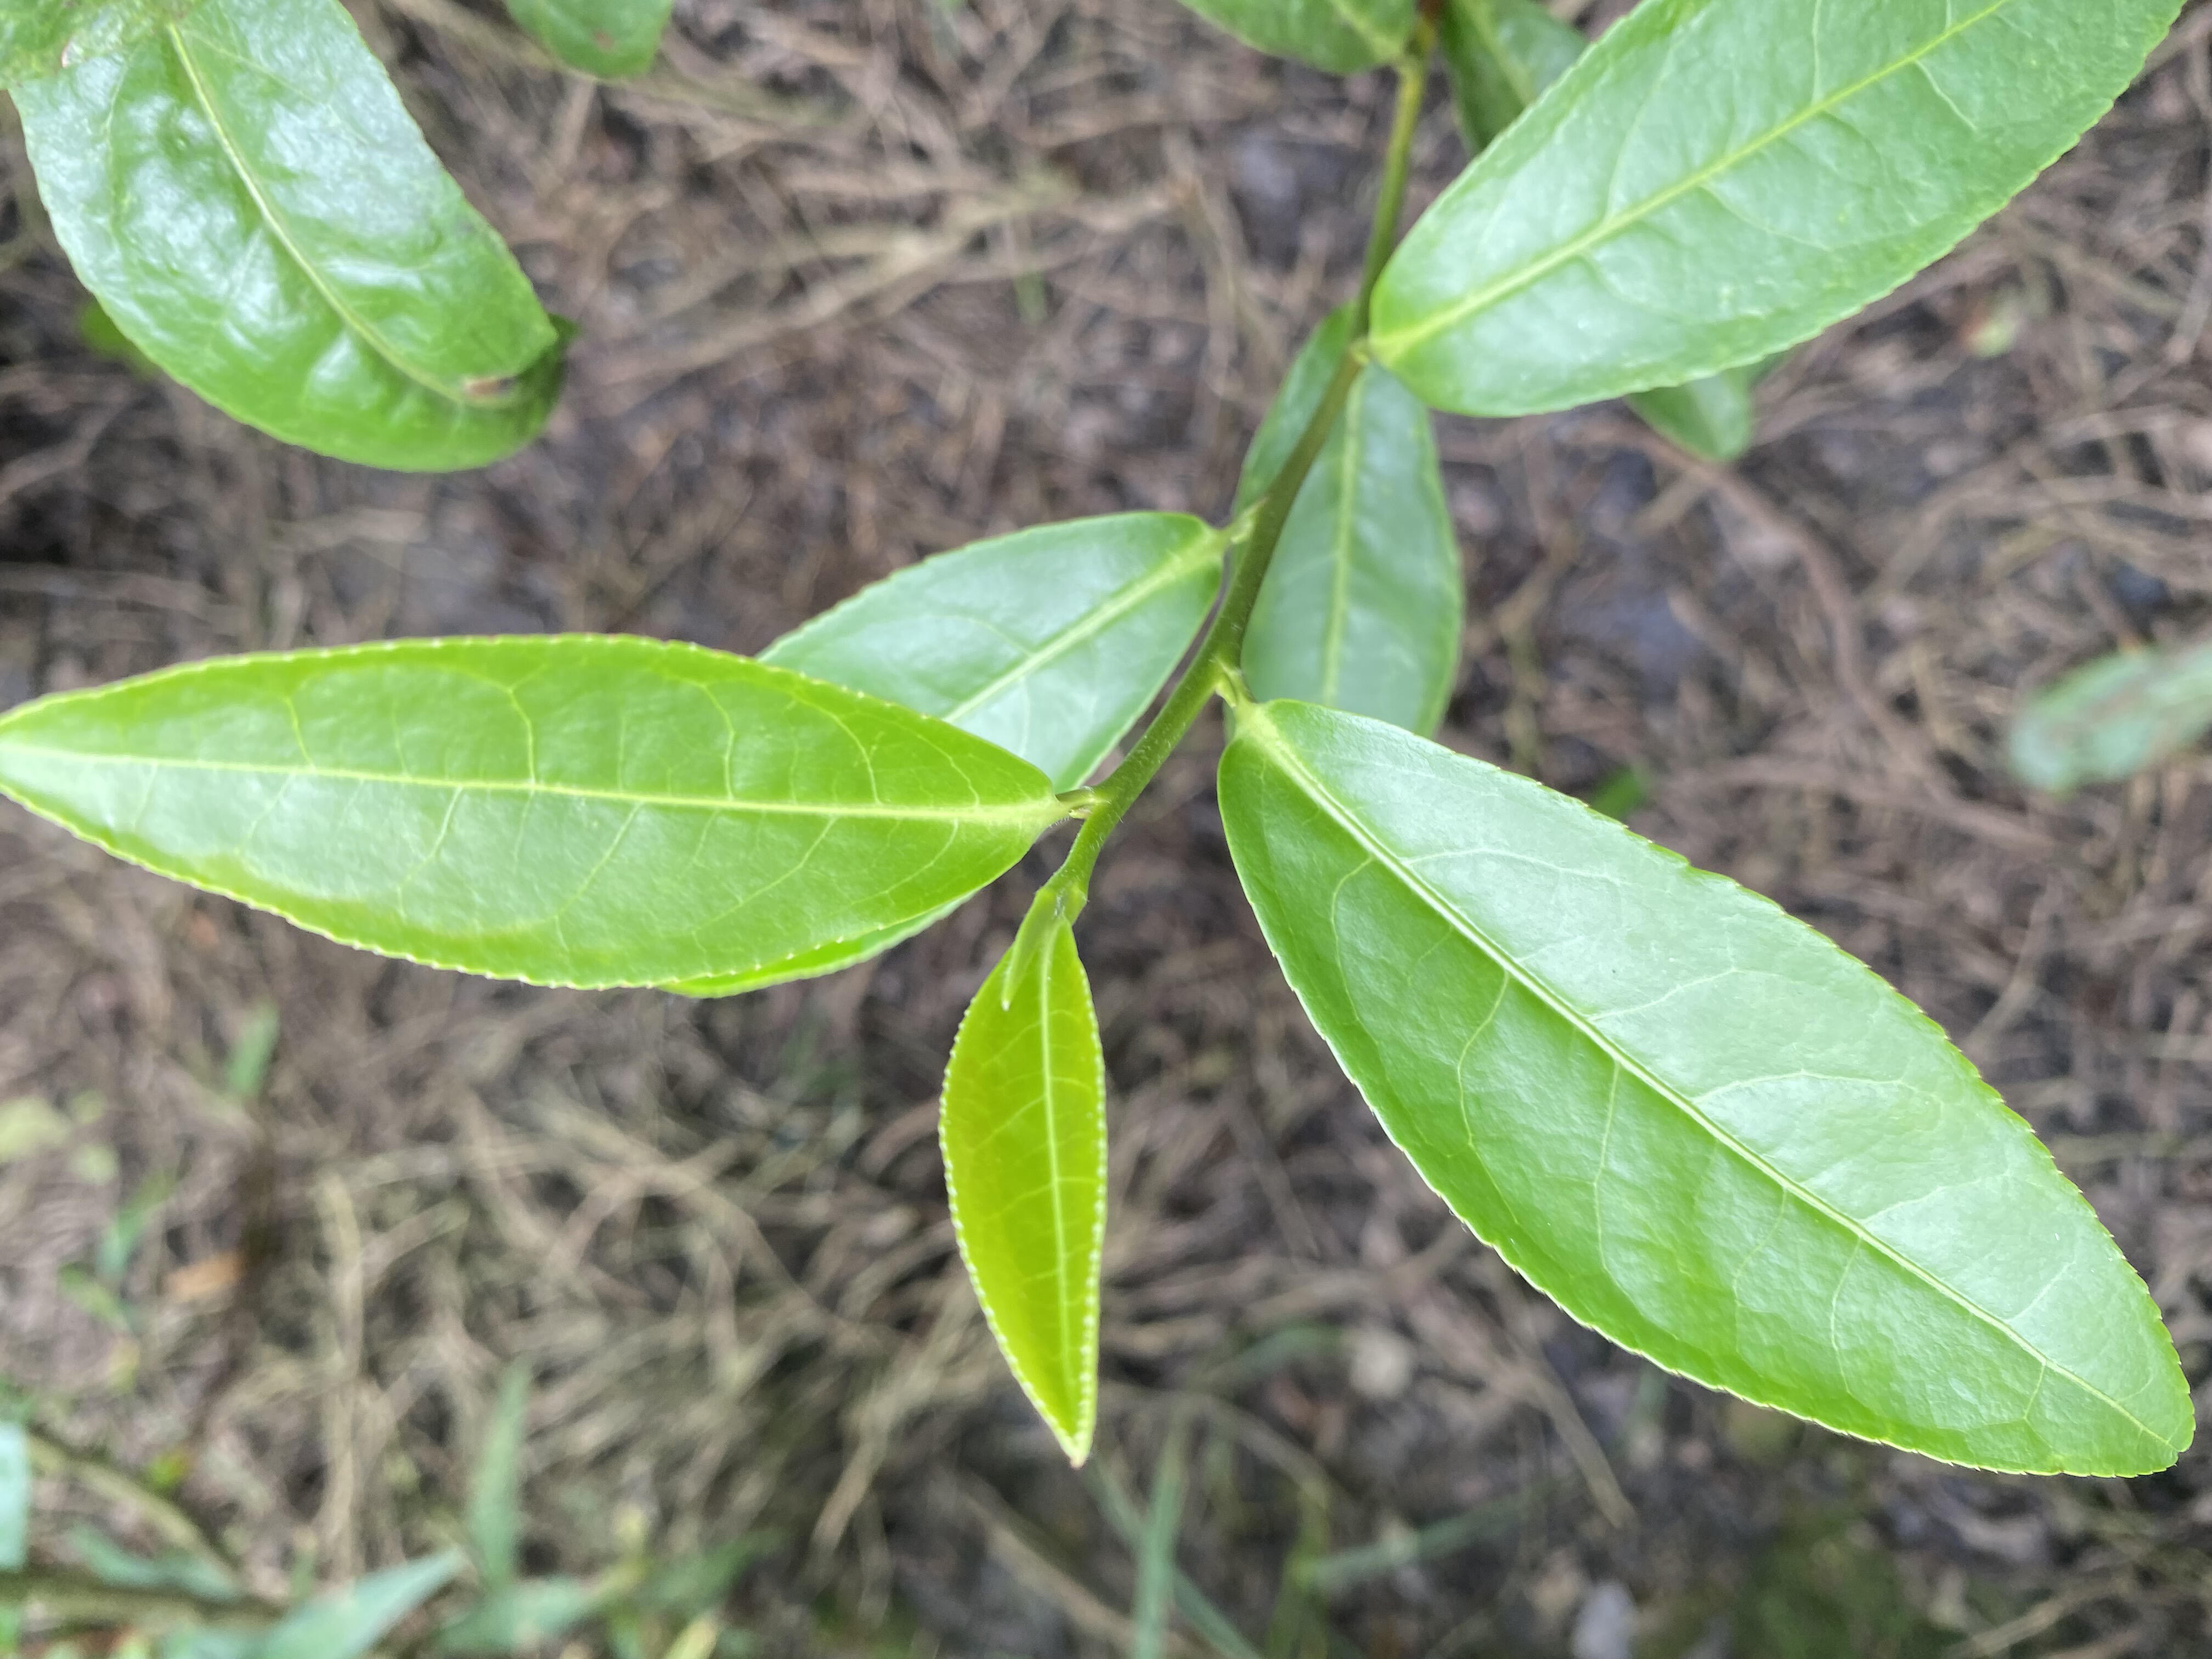healthy: (1212, 694, 2200, 1478), (2, 629, 1057, 997), (1362, 3, 2188, 423), (756, 507, 1228, 784), (937, 911, 1113, 1467)
tanju_low: (3, 3, 561, 479)
